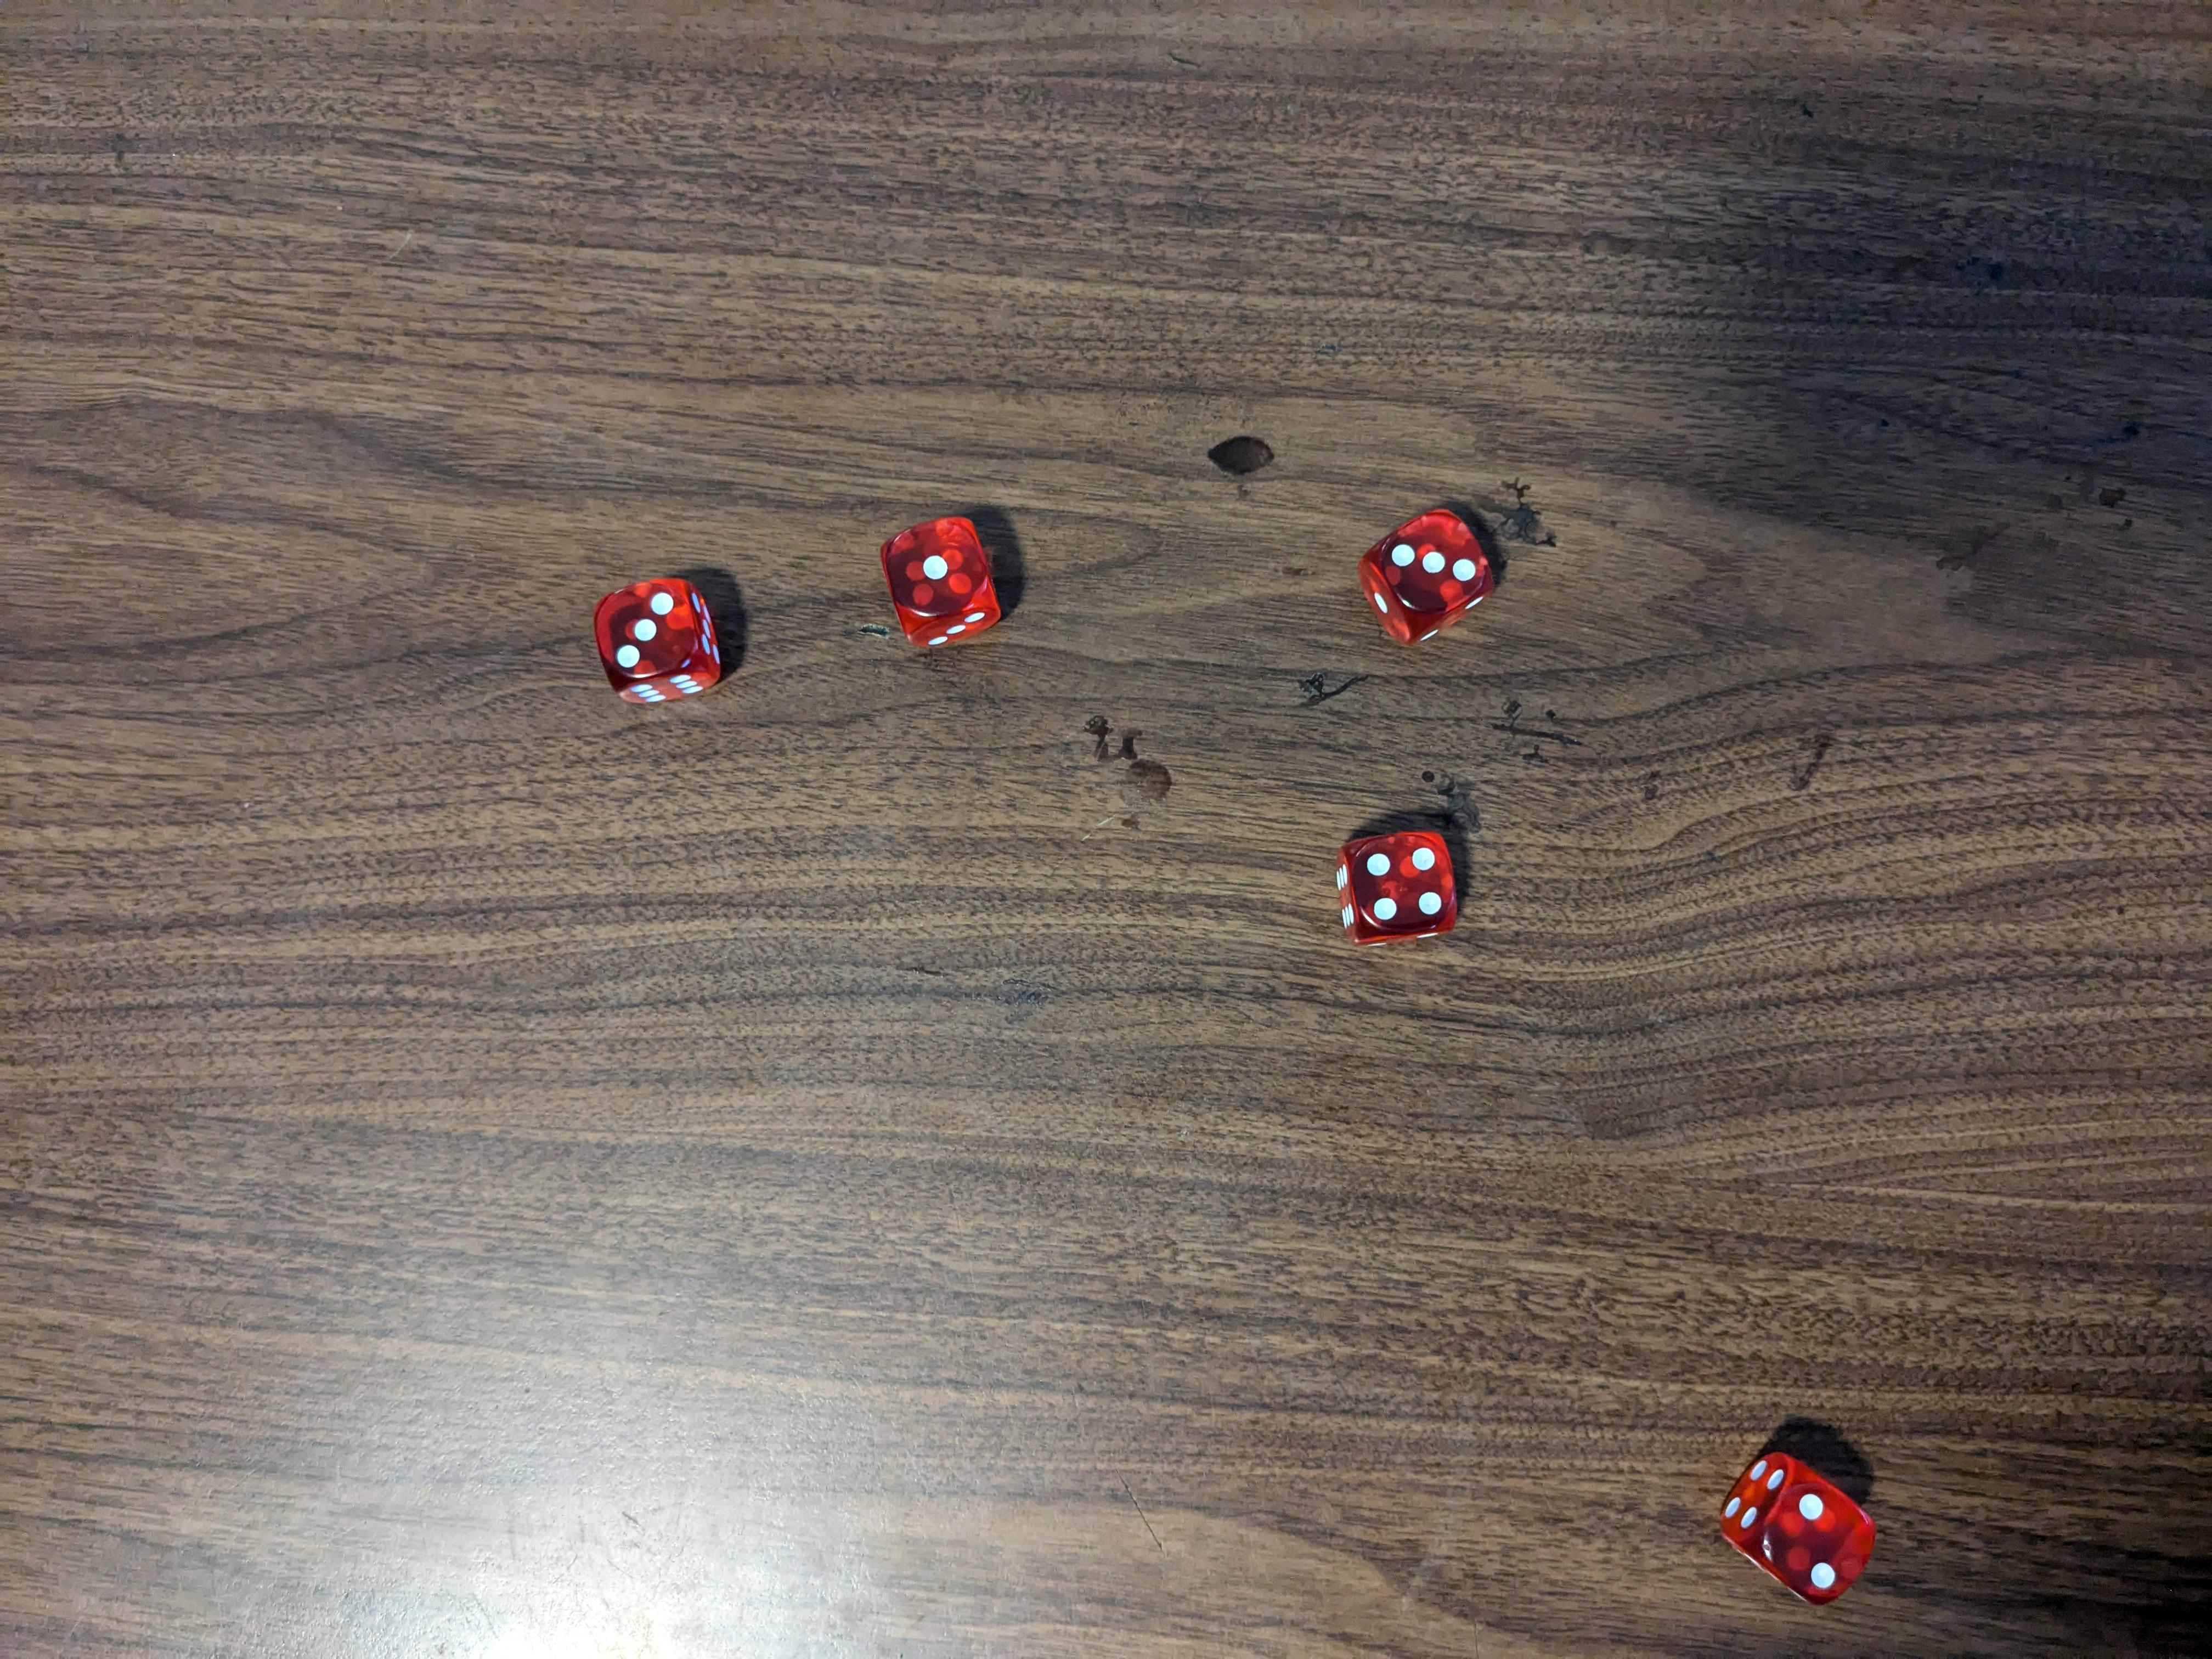four: (1329, 823, 1470, 946)
one: (873, 505, 1007, 660)
three: (1355, 505, 1507, 648), (589, 579, 728, 708)
two: (1712, 1446, 1879, 1607)
